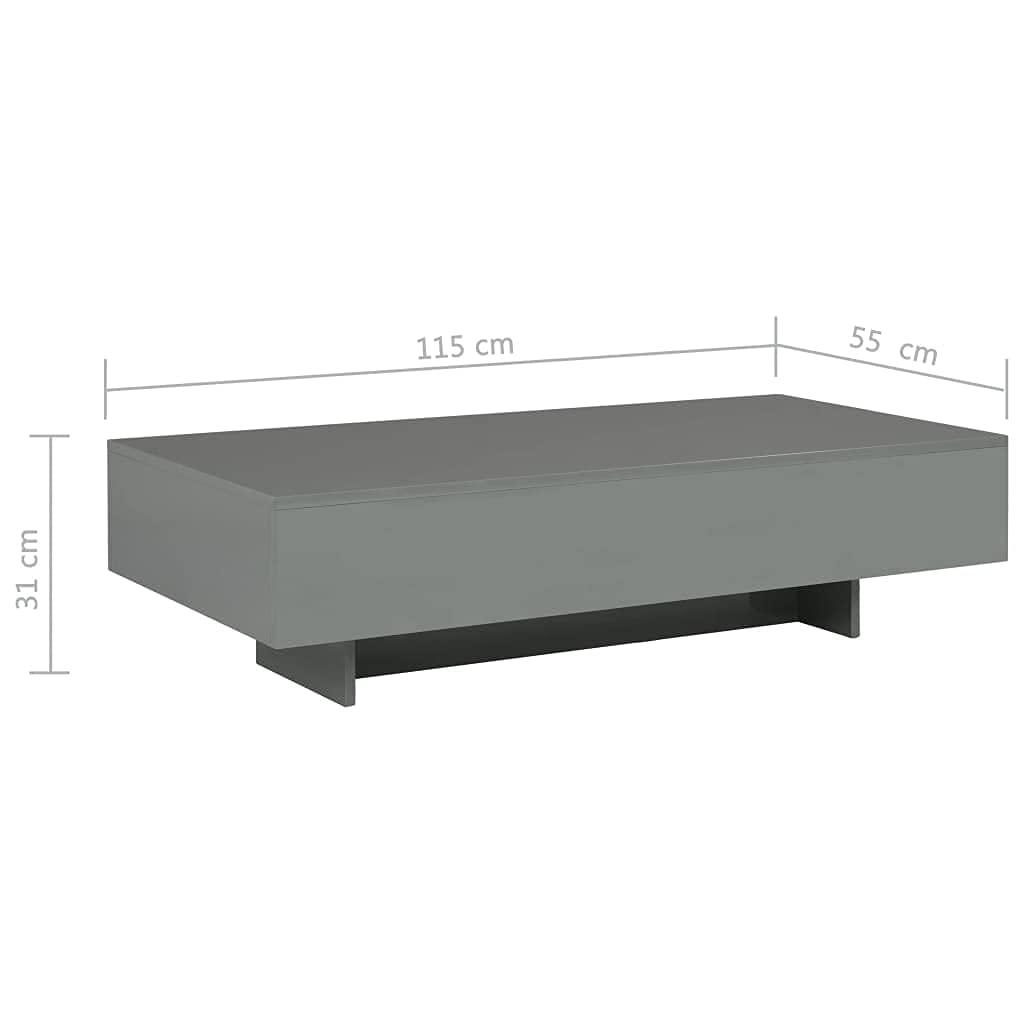31cm: (16, 531, 37, 609)
